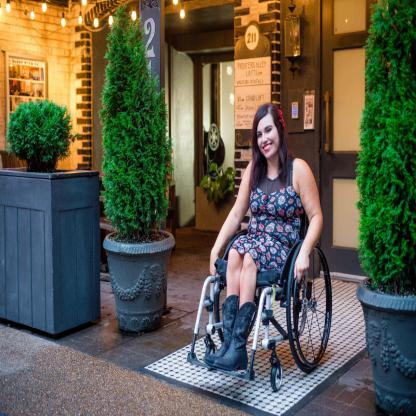wheelchair: (190, 104, 336, 393)
